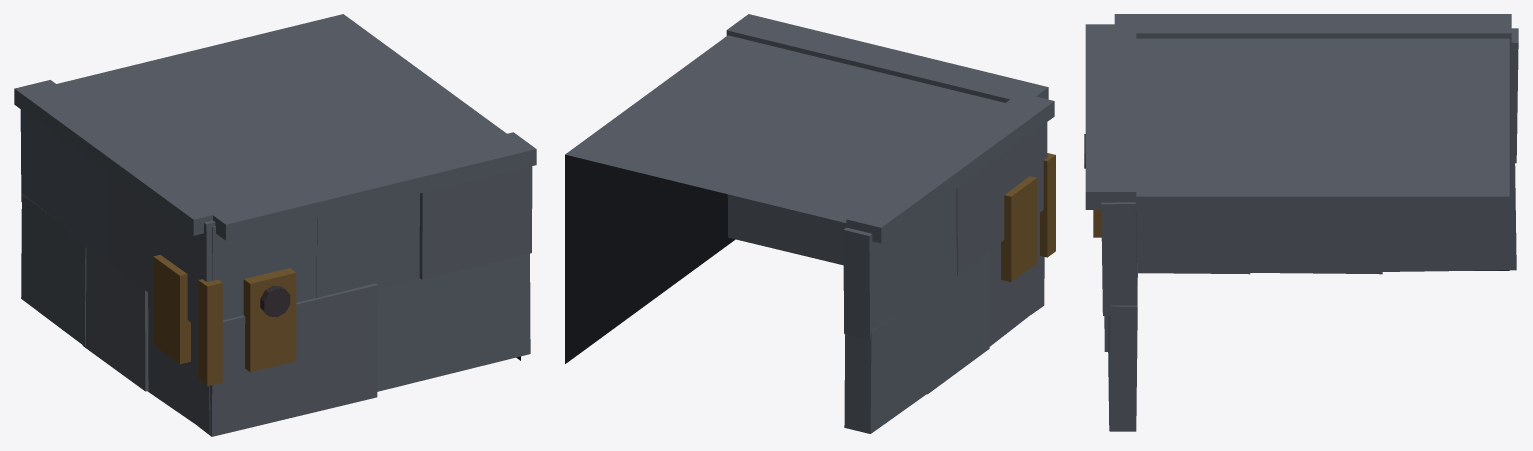
The model's file is SM_Terrain_Dvergr_08_Corner.glb.
3 renders of one model, left to right at view 1: azimuth 30°, elevation 25°; view 2: azimuth 150°, elevation 25°; view 3: azimuth 270°, elevation 25°, orthographic. The views are drawn at different scales.
Visible parts, largest first — view 1: SM_Terrain_Dvergr_08_Corner_Deck, SM_Terrain_Dvergr_08_Corner_PlateY01, SM_Terrain_Dvergr_08_Corner_PlateY00, SM_Terrain_Dvergr_08_Corner_LipY, SM_Terrain_Dvergr_08_Corner_PlateY12, SM_Terrain_Dvergr_08_Corner_LipX, SM_Terrain_Dvergr_08_Corner_PlateY11, SM_Terrain_Dvergr_08_Corner_PlateX11, SM_Terrain_Dvergr_08_Corner_PlateX10, SM_Terrain_Dvergr_08_Corner_PlateX02, SM_Terrain_Dvergr_08_Corner_PlateX01, SM_Terrain_Dvergr_08_Corner_PlateY10 (+5 smaller); view 2: SM_Terrain_Dvergr_08_Corner_Deck, SM_Terrain_Dvergr_08_Corner_PlateX11, SM_Terrain_Dvergr_08_Corner_LipX, SM_Terrain_Dvergr_08_Corner_PlateX02, SM_Terrain_Dvergr_08_Corner_LipY, SM_Terrain_Dvergr_08_Corner_PlateX10, SM_Terrain_Dvergr_08_Corner_PlateX01, SM_Terrain_Dvergr_08_Corner_PlateY01, SM_Terrain_Dvergr_08_Corner_PlateX00, SM_Terrain_Dvergr_08_Corner_BracketX, SM_Terrain_Dvergr_08_Corner_BracketEdge; view 3: SM_Terrain_Dvergr_08_Corner_Deck, SM_Terrain_Dvergr_08_Corner_PlateX01, SM_Terrain_Dvergr_08_Corner_PlateX02, SM_Terrain_Dvergr_08_Corner_LipX, SM_Terrain_Dvergr_08_Corner_LipY, SM_Terrain_Dvergr_08_Corner_PlateX00, SM_Terrain_Dvergr_08_Corner_PlateY12, SM_Terrain_Dvergr_08_Corner_PlateY01, SM_Terrain_Dvergr_08_Corner_PlateX11.
Part boxes in pixels (x1,y1,x2,y2): SM_Terrain_Dvergr_08_Corner_Deck: [56, 14, 520, 360]; SM_Terrain_Dvergr_08_Corner_PlateY01: [377, 253, 530, 391]; SM_Terrain_Dvergr_08_Corner_PlateY00: [198, 283, 377, 436]; SM_Terrain_Dvergr_08_Corner_LipY: [209, 132, 536, 240]; SM_Terrain_Dvergr_08_Corner_PlateY12: [419, 166, 532, 279]; SM_Terrain_Dvergr_08_Corner_LipX: [14, 80, 228, 235]; SM_Terrain_Dvergr_08_Corner_PlateY11: [316, 193, 419, 297]; SM_Terrain_Dvergr_08_Corner_PlateX11: [20, 109, 109, 264]; SM_Terrain_Dvergr_08_Corner_PlateX10: [109, 174, 215, 326]; SM_Terrain_Dvergr_08_Corner_PlateX02: [21, 194, 86, 346]; SM_Terrain_Dvergr_08_Corner_PlateX01: [82, 248, 148, 391]; SM_Terrain_Dvergr_08_Corner_PlateY10: [212, 218, 316, 320]; SM_Terrain_Dvergr_08_Corner_Deck: [565, 35, 1004, 363]; SM_Terrain_Dvergr_08_Corner_PlateX11: [843, 188, 956, 340]; SM_Terrain_Dvergr_08_Corner_LipX: [846, 92, 1054, 243]; SM_Terrain_Dvergr_08_Corner_PlateX02: [844, 294, 932, 433]; SM_Terrain_Dvergr_08_Corner_LipY: [726, 14, 1048, 102]; SM_Terrain_Dvergr_08_Corner_PlateX10: [956, 122, 1047, 275]; SM_Terrain_Dvergr_08_Corner_PlateX01: [927, 252, 989, 394]; SM_Terrain_Dvergr_08_Corner_PlateY01: [727, 194, 846, 265]; SM_Terrain_Dvergr_08_Corner_PlateX00: [989, 213, 1043, 346]; SM_Terrain_Dvergr_08_Corner_BracketX: [1001, 176, 1036, 281]; SM_Terrain_Dvergr_08_Corner_BracketEdge: [1040, 153, 1055, 257]; SM_Terrain_Dvergr_08_Corner_Deck: [1136, 38, 1509, 270]; SM_Terrain_Dvergr_08_Corner_PlateX01: [1242, 196, 1383, 274]; SM_Terrain_Dvergr_08_Corner_PlateX02: [1382, 163, 1516, 271]; SM_Terrain_Dvergr_08_Corner_LipX: [1114, 14, 1511, 42]; SM_Terrain_Dvergr_08_Corner_LipY: [1085, 24, 1136, 209]; SM_Terrain_Dvergr_08_Corner_PlateX00: [1137, 196, 1250, 274]; SM_Terrain_Dvergr_08_Corner_PlateY12: [1101, 202, 1137, 315]; SM_Terrain_Dvergr_08_Corner_PlateY01: [1108, 263, 1137, 431]; SM_Terrain_Dvergr_08_Corner_PlateX11: [1509, 28, 1518, 163].
Bounding box in the file's own units: 2.18 × 1.38 × 2.21.
